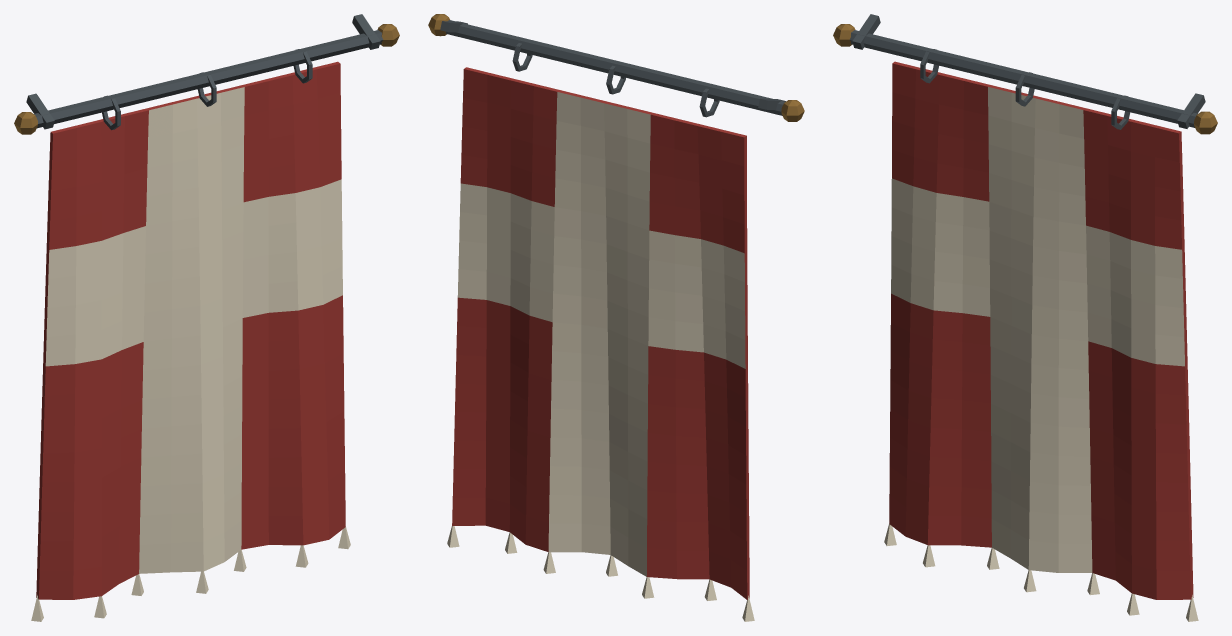
Rendered from mdvl_castle_banner_01.glb.
3 renders of one model, left to right at view 1: azimuth 30°, elevation 25°; view 2: azimuth 150°, elevation 25°; view 3: azimuth 330°, elevation 25°, orthographic. The views are drawn at different scales.
Visible parts, largest first — view 1: mdvl_castle_banner_01; view 2: mdvl_castle_banner_01; view 3: mdvl_castle_banner_01.
Boxes of the visible parts, <box> form: mdvl_castle_banner_01: <box>14,14,399,621</box>; mdvl_castle_banner_01: <box>428,14,804,621</box>; mdvl_castle_banner_01: <box>833,14,1217,621</box>.
Size of the model in its own units: 1.19 by 1.59 by 0.1634.
Materials: 1 (1 with a texture image).
